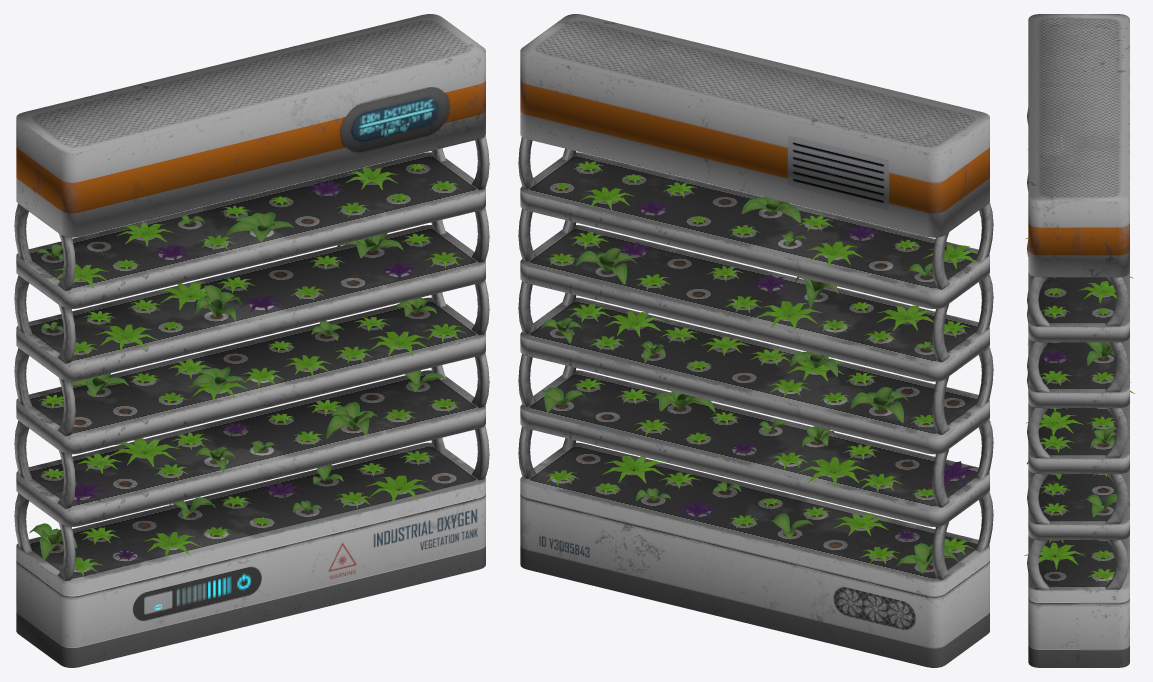
Rendered from HydroponicKiosks.fbx.
3 renders of one model, left to right at view 1: azimuth 30°, elevation 25°; view 2: azimuth 150°, elevation 25°; view 3: azimuth 270°, elevation 25°, orthographic. The views are drawn at different scales.
Parts seen in each view (by area): view 1: HydroponicKiosks, Hydro_Plants; view 2: HydroponicKiosks, Hydro_Plants; view 3: HydroponicKiosks, Hydro_Plants.
Boxes of the visible parts, left/top/right/bottom form: HydroponicKiosks: left=14, top=14, right=489, bottom=667; Hydro_Plants: left=29, top=164, right=466, bottom=575; HydroponicKiosks: left=518, top=14, right=993, bottom=667; Hydro_Plants: left=541, top=161, right=979, bottom=573; HydroponicKiosks: left=1027, top=14, right=1129, bottom=667; Hydro_Plants: left=1024, top=149, right=1134, bottom=582.
Size of the model in its own units: 4.73 by 5.47 by 1.24.
